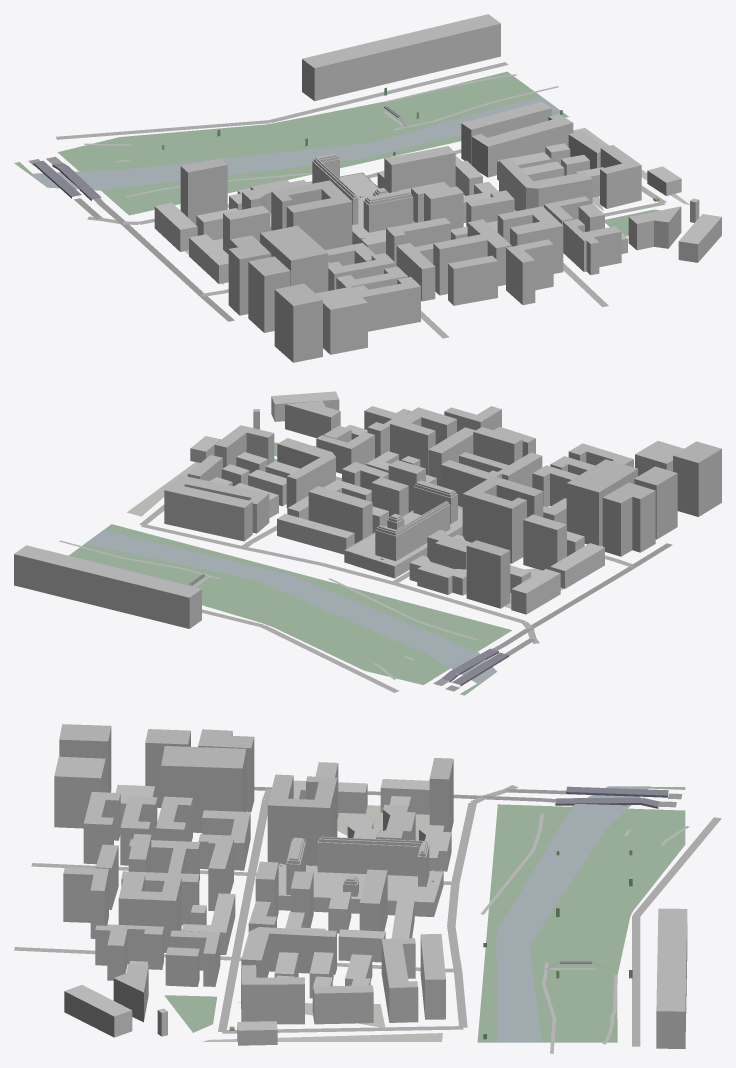
3 views of the same model, one above another, from view 1: azimuth 30°, elevation 25°; view 2: azimuth 150°, elevation 25°; view 3: azimuth 270°, elevation 25° (orthographic). The views are drawn at different scales.
Bounding box in the file's own units: 527 × 62.82 × 584.
